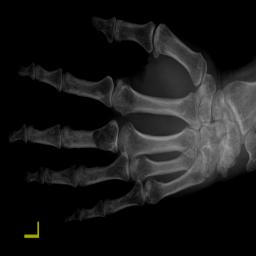cancer: (94, 121, 121, 149)
